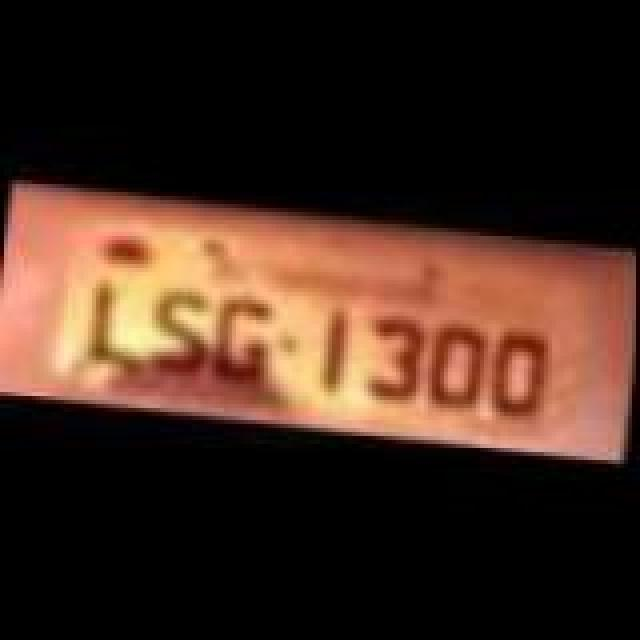1: (316, 302, 356, 390)
3: (360, 306, 428, 406)
G: (208, 286, 280, 386)
L: (82, 280, 142, 368)
O: (424, 320, 492, 416), (486, 324, 550, 420)
S: (142, 286, 210, 382)
